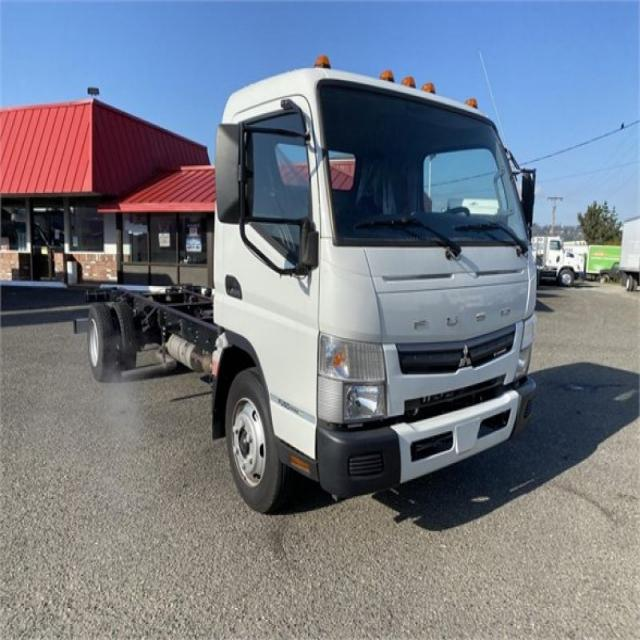truck: (71, 57, 536, 516)
